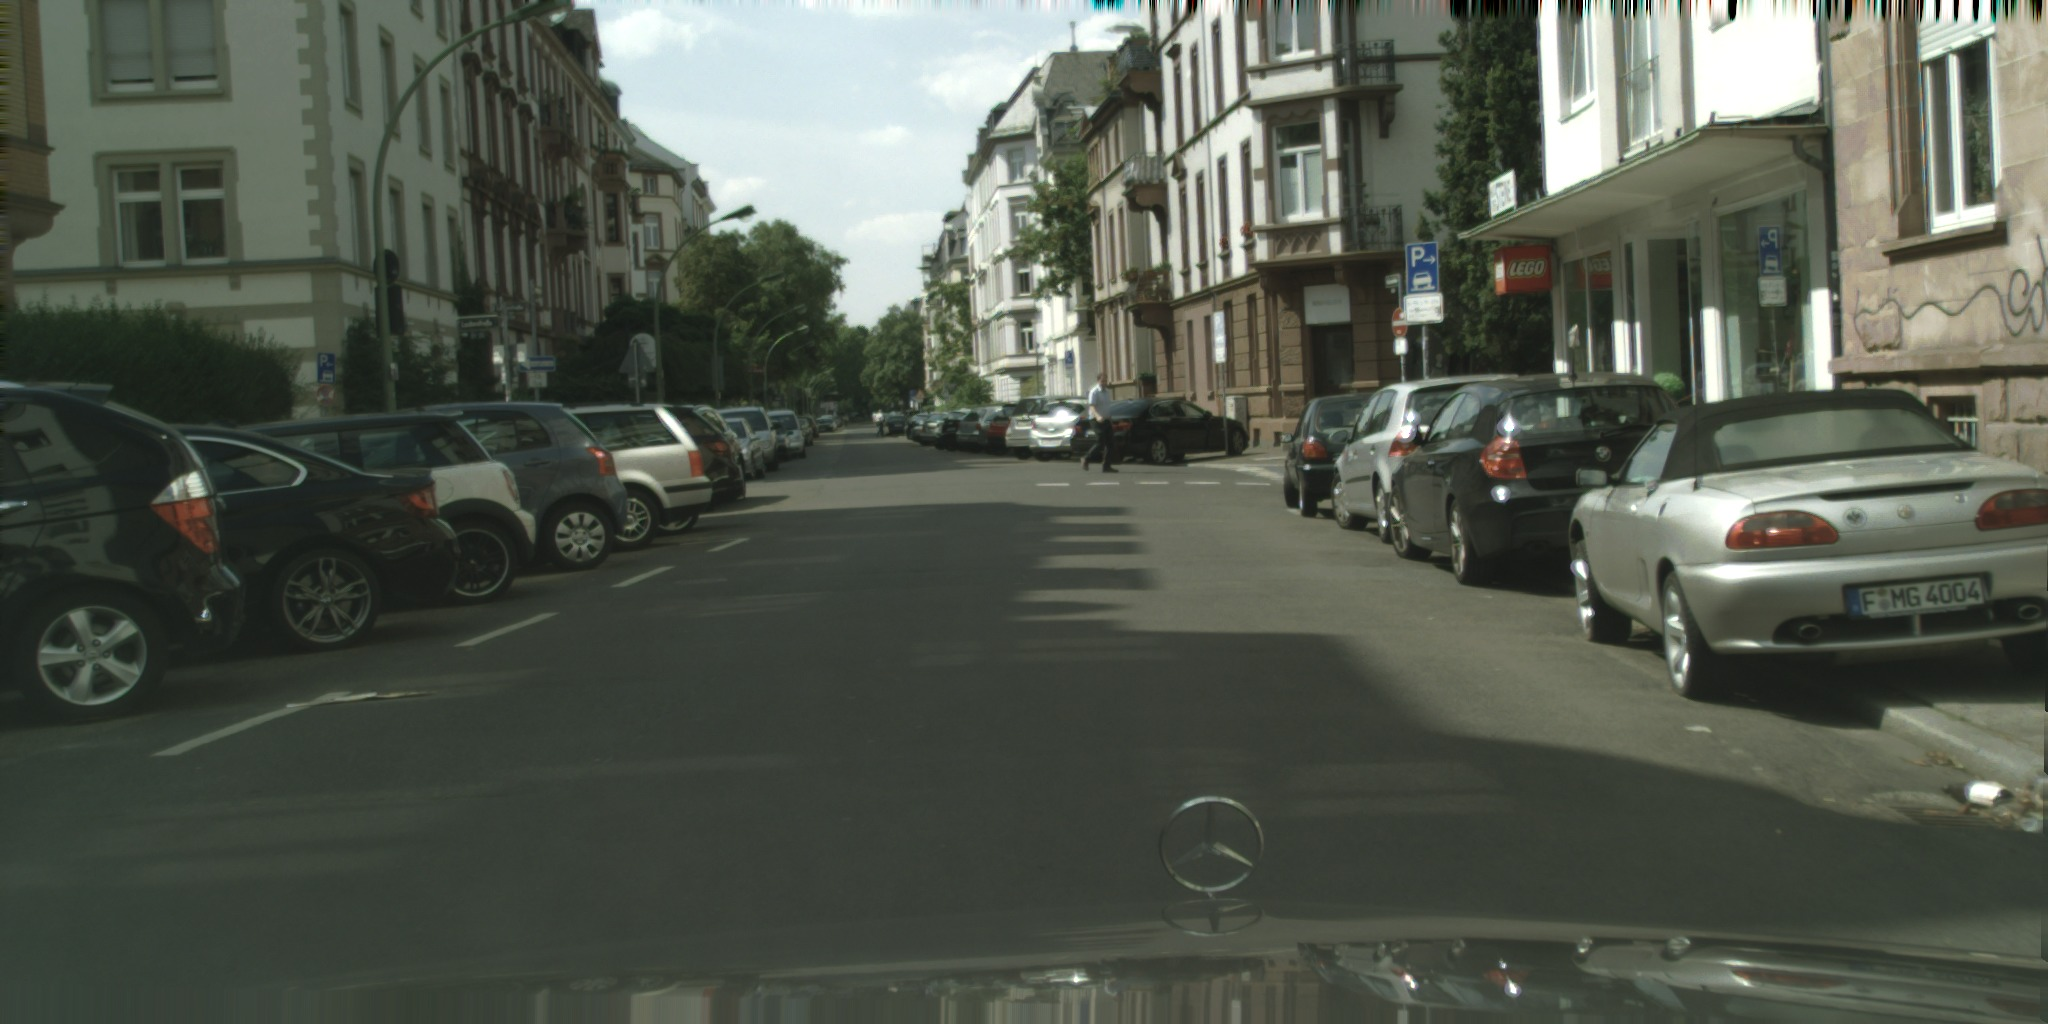bicycle: (842, 417, 849, 428)
car: (1568, 389, 2047, 700), (0, 379, 247, 724), (133, 420, 461, 654), (1386, 344, 1692, 586), (190, 409, 536, 605), (1327, 375, 1599, 544), (379, 401, 627, 572), (548, 405, 713, 553), (618, 403, 746, 536), (1277, 390, 1405, 518), (618, 403, 746, 510), (1070, 397, 1248, 465), (694, 406, 781, 471), (1029, 400, 1106, 461), (702, 417, 765, 480), (1005, 395, 1067, 460), (954, 405, 1018, 455), (751, 408, 811, 458), (988, 401, 1040, 455), (937, 408, 986, 450), (743, 419, 795, 460), (920, 411, 967, 449), (787, 417, 814, 447), (885, 414, 915, 433), (795, 414, 820, 438), (808, 417, 838, 433), (826, 416, 842, 428)
person: (1081, 373, 1120, 472), (875, 408, 885, 436)
rider: (844, 412, 849, 425)
